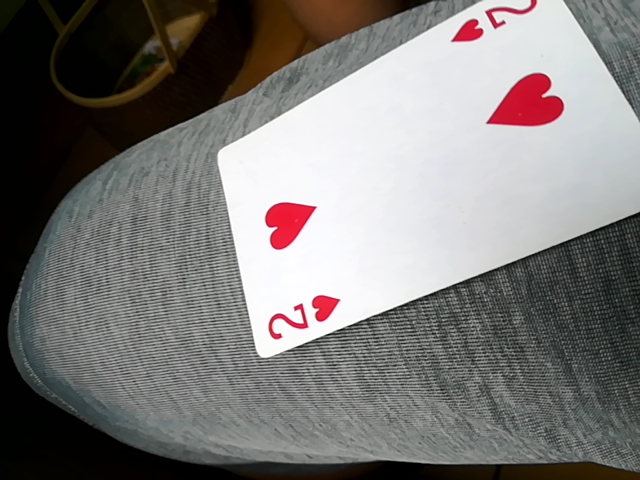hx 2: (219, 2, 637, 356)
